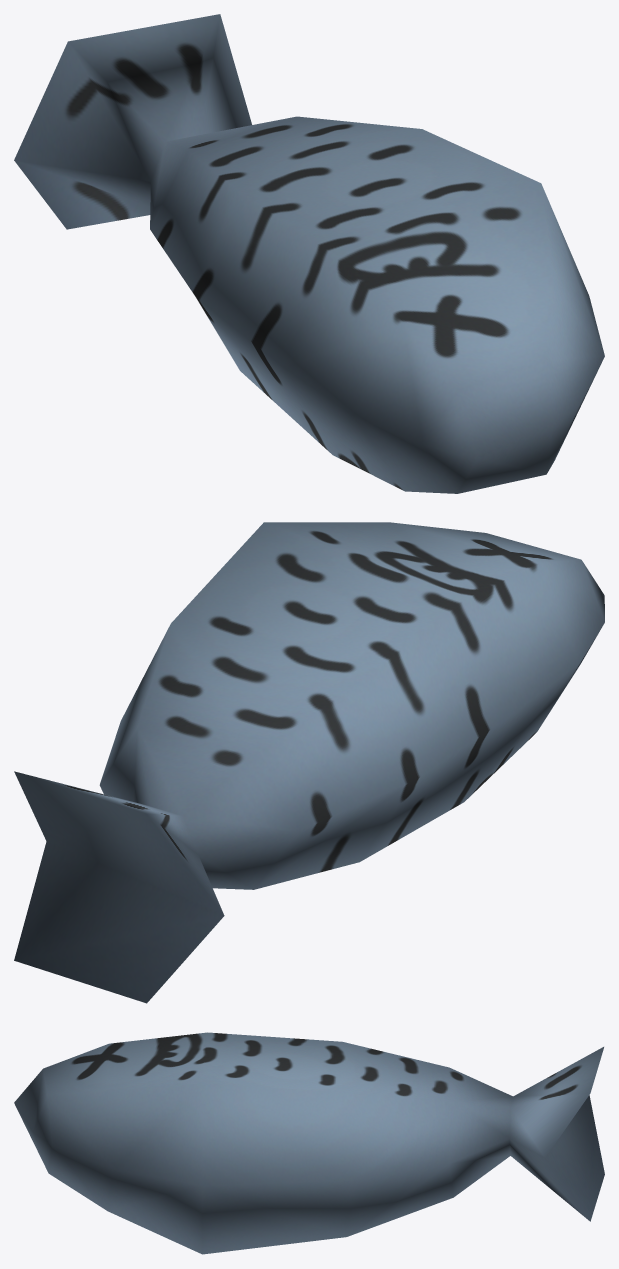
Rendered from Dried_fish.fbx.
The picture shows the model from 3 angles, top to bottom: view 1: azimuth 30°, elevation 25°; view 2: azimuth 150°, elevation 25°; view 3: azimuth 270°, elevation 25°; orthographic projection. The views are drawn at different scales.
Visible parts, largest first — view 1: Dried_fish; view 2: Dried_fish; view 3: Dried_fish.
Part boxes in pixels (left/top/right/bottom): Dried_fish: left=14, top=14, right=604, bottom=493; Dried_fish: left=14, top=522, right=604, bottom=1003; Dried_fish: left=14, top=1032, right=604, bottom=1254.
Bounding box in the file's own units: 23.91 × 18.83 × 59.38.
